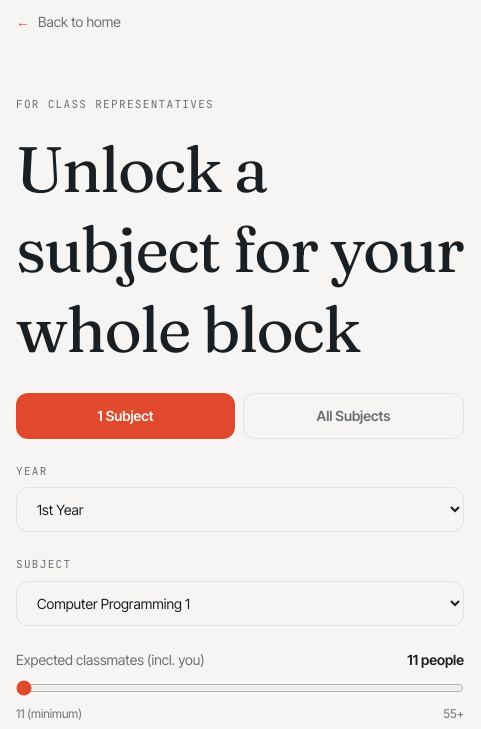
ForBlocksCheckout › switches the base price to 999 when All Subjects is selected
Click the button "All Subjects" at [354, 416], box [243, 392, 464, 438]
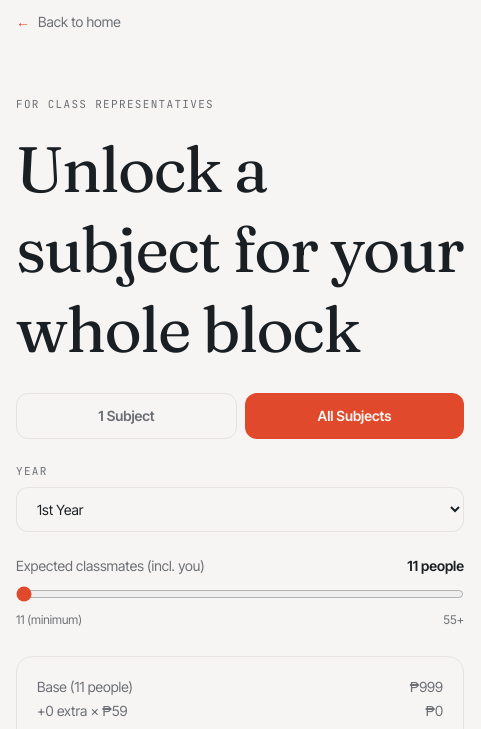
Expected: the text "₱999" is shown, [410, 677, 443, 697]
